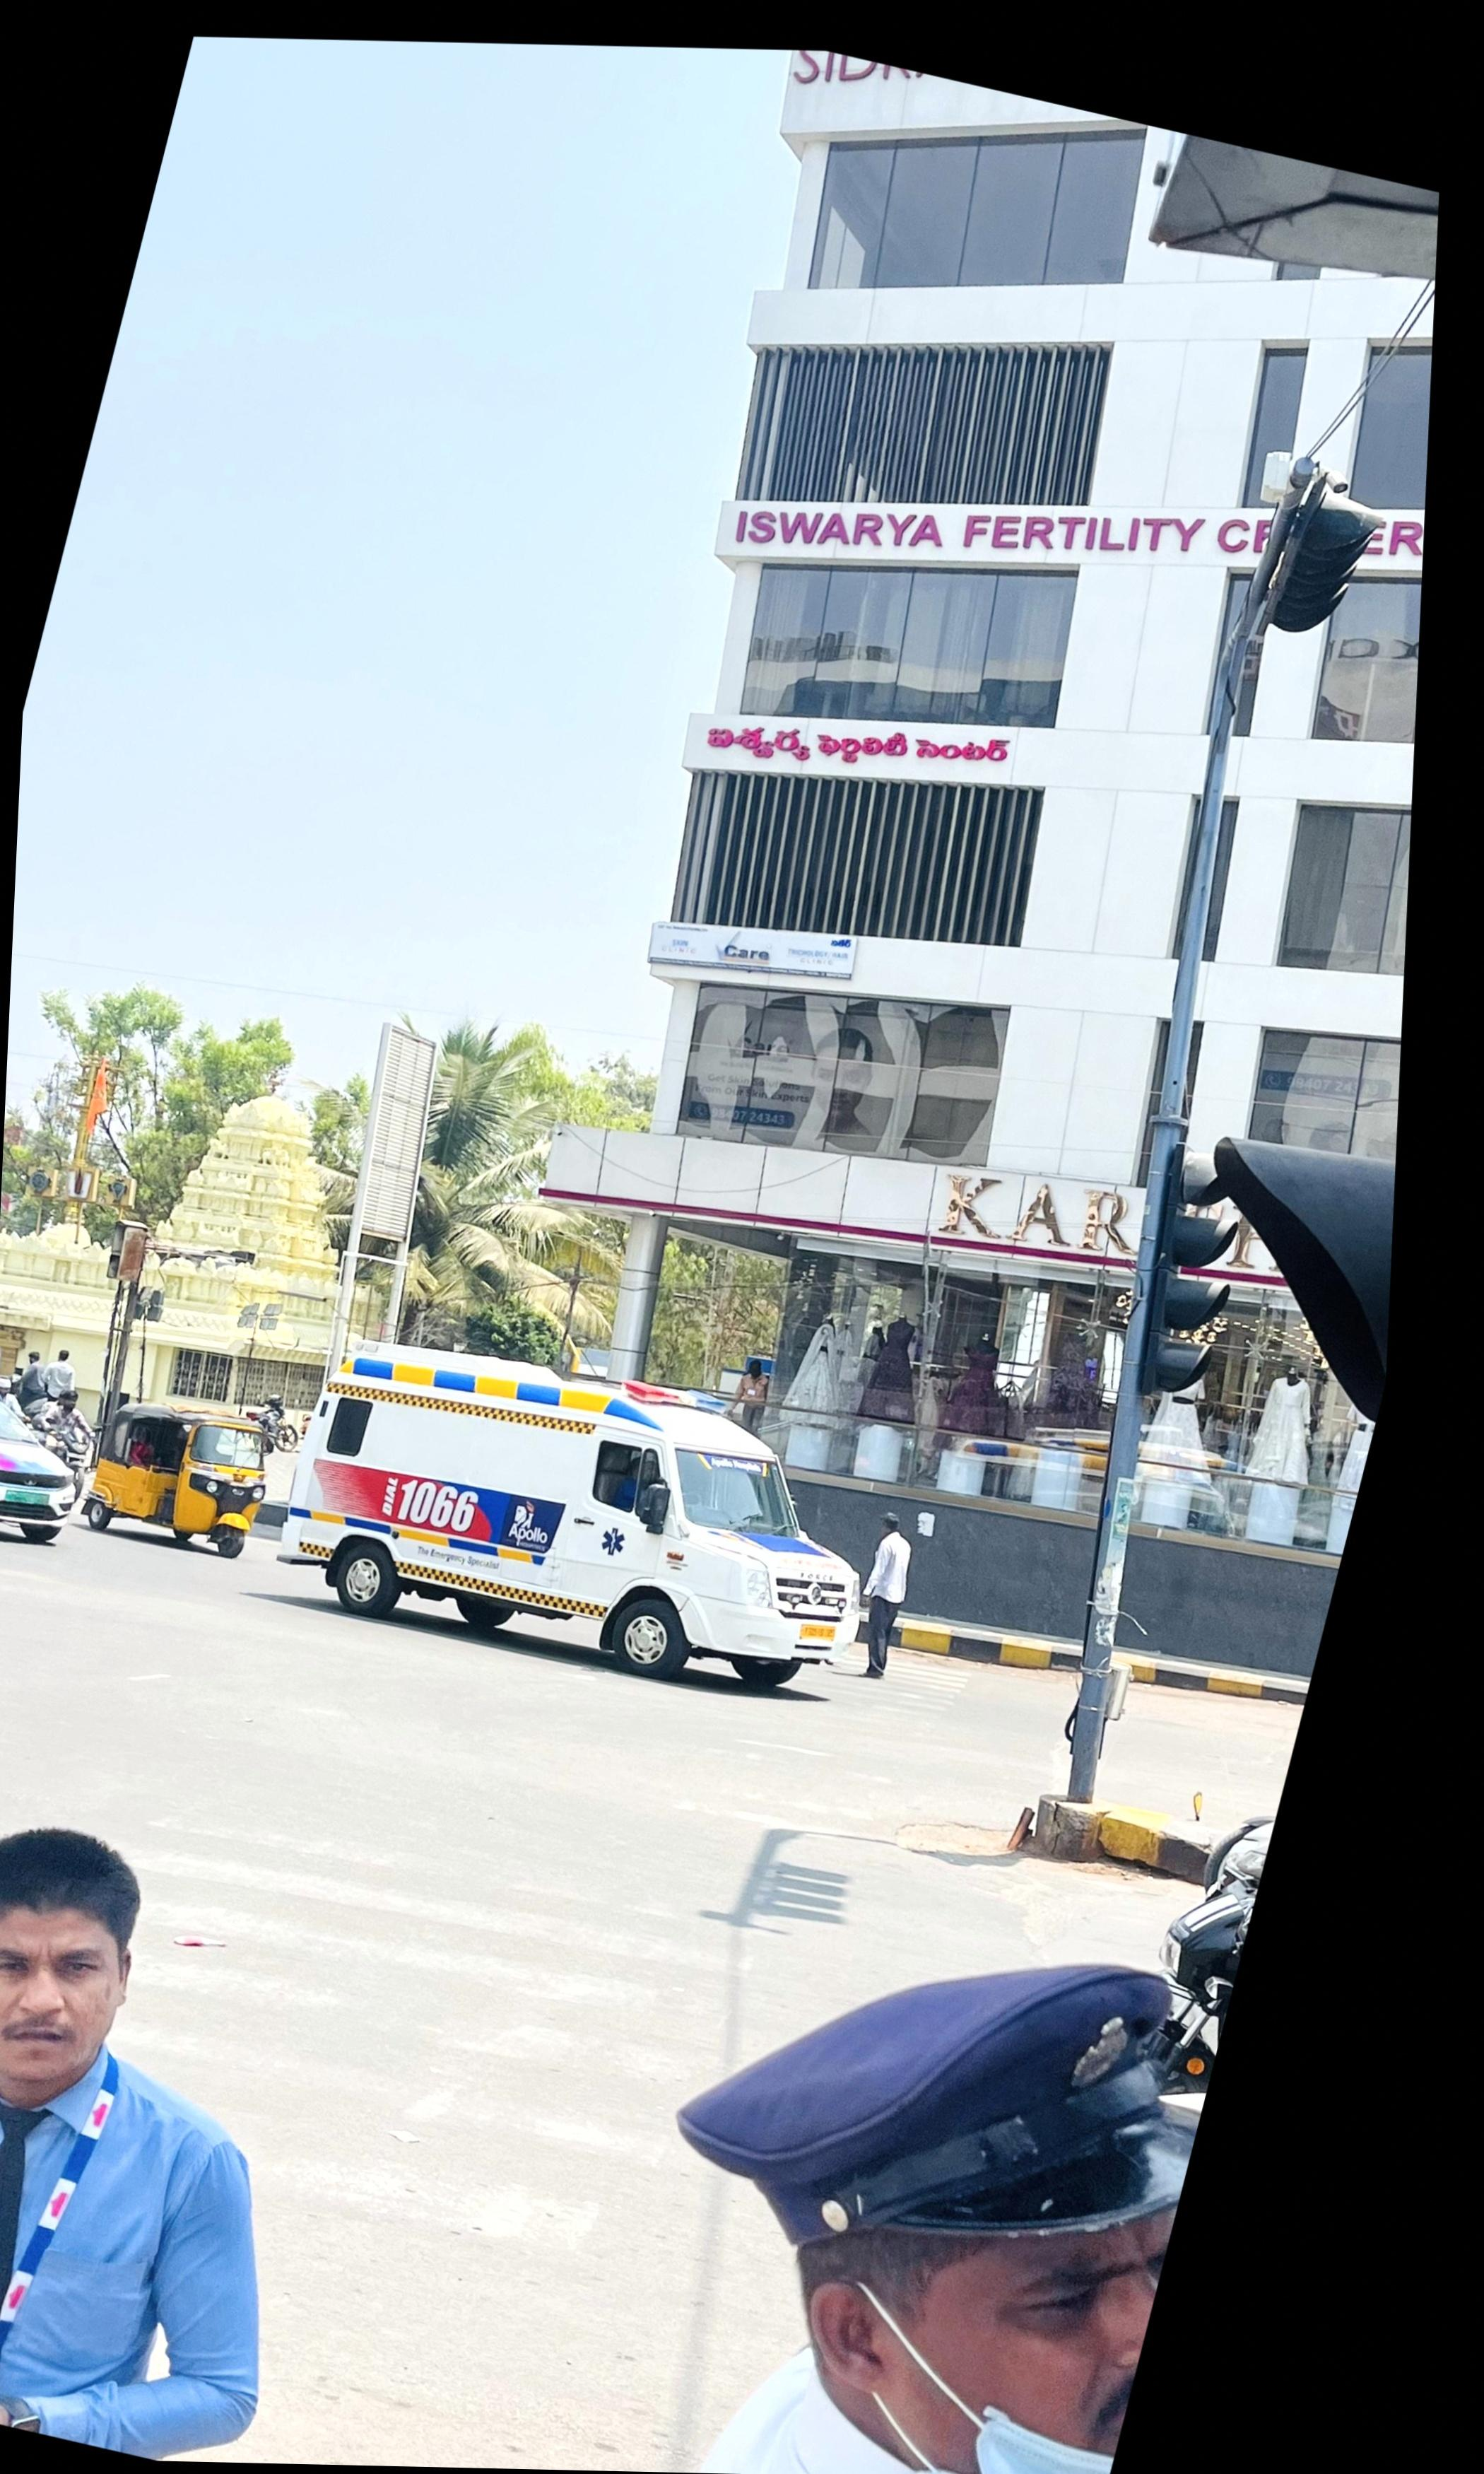ambulance: (277, 1339, 864, 1696)
